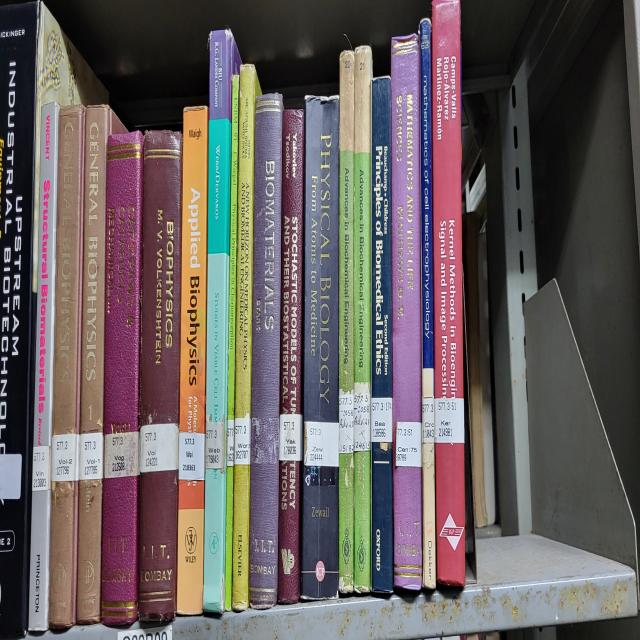Book: (202, 30, 241, 614), (78, 106, 122, 622), (101, 116, 144, 625), (139, 130, 182, 622), (300, 97, 339, 601), (432, 0, 465, 584), (49, 106, 85, 628), (249, 95, 284, 609), (391, 35, 422, 590), (176, 106, 209, 614), (232, 65, 261, 611), (29, 103, 59, 630), (279, 111, 304, 603), (371, 76, 392, 595), (354, 46, 372, 593), (419, 19, 436, 590), (339, 51, 355, 593), (225, 76, 239, 609)
Label: (140, 422, 179, 473), (104, 430, 139, 479), (304, 422, 339, 468), (51, 433, 80, 482), (354, 381, 371, 452), (179, 433, 205, 479), (395, 422, 421, 468), (79, 433, 104, 479), (279, 414, 302, 460), (205, 419, 225, 471), (339, 390, 354, 455), (371, 398, 392, 444), (32, 446, 51, 492), (235, 414, 251, 465), (228, 419, 235, 468)
